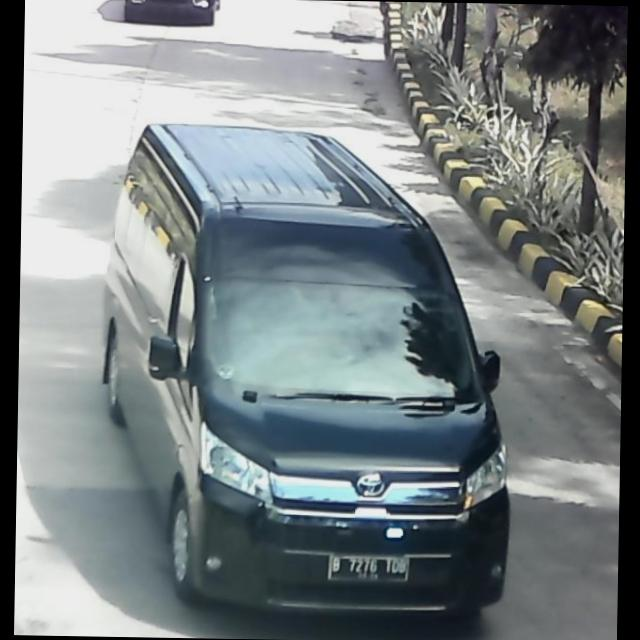plate: (324, 552, 411, 583)
